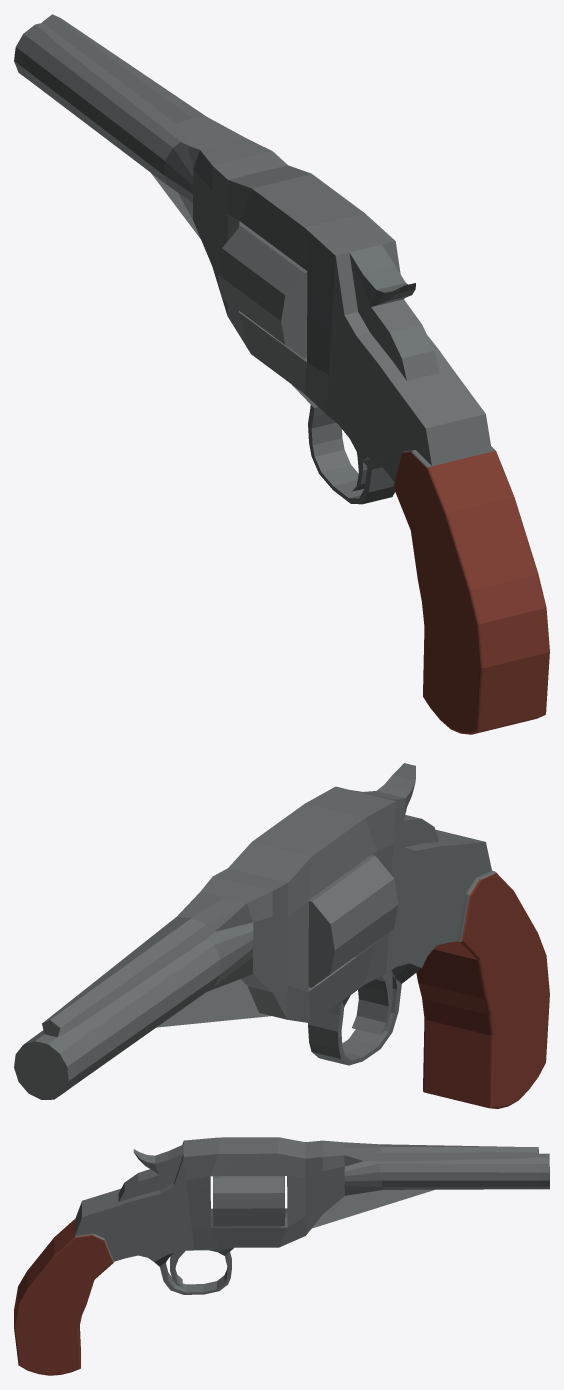
File: gun.fbx
3 views of the same model, one above another, from view 1: azimuth 30°, elevation 25°; view 2: azimuth 150°, elevation 25°; view 3: azimuth 270°, elevation 25° (orthographic). The views are drawn at different scales.
Visible parts, largest first — view 1: gun, rodinha; view 2: gun, rodinha; view 3: gun, rodinha.
Boxes of the visible parts, x1,y1,x2,y2 form: gun: (14,14,549,734); rodinha: (217,225,307,358); gun: (14,763,549,1108); rodinha: (308,855,398,987); gun: (14,1137,549,1375); rodinha: (213,1176,284,1226).
Bounding box in the file's own units: 71.99 × 230 × 505.
